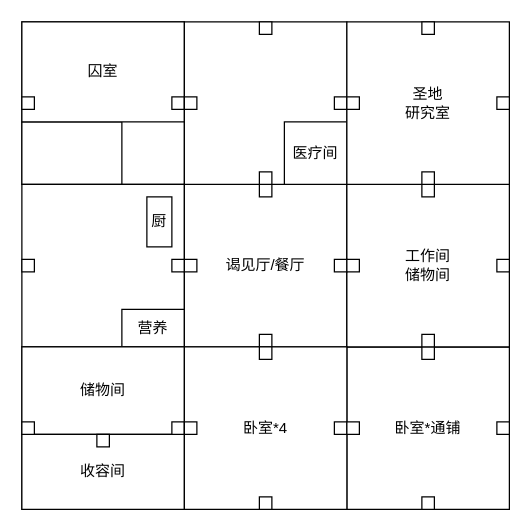
This 531x531 diagram has some shape labels left out. The box of each missing label's shape, as (x1, y1, x2, y2) in pixels:
冷库: (21, 183, 184, 347)
卧室*6: (183, 21, 347, 184)
发电间: (21, 121, 122, 184)
